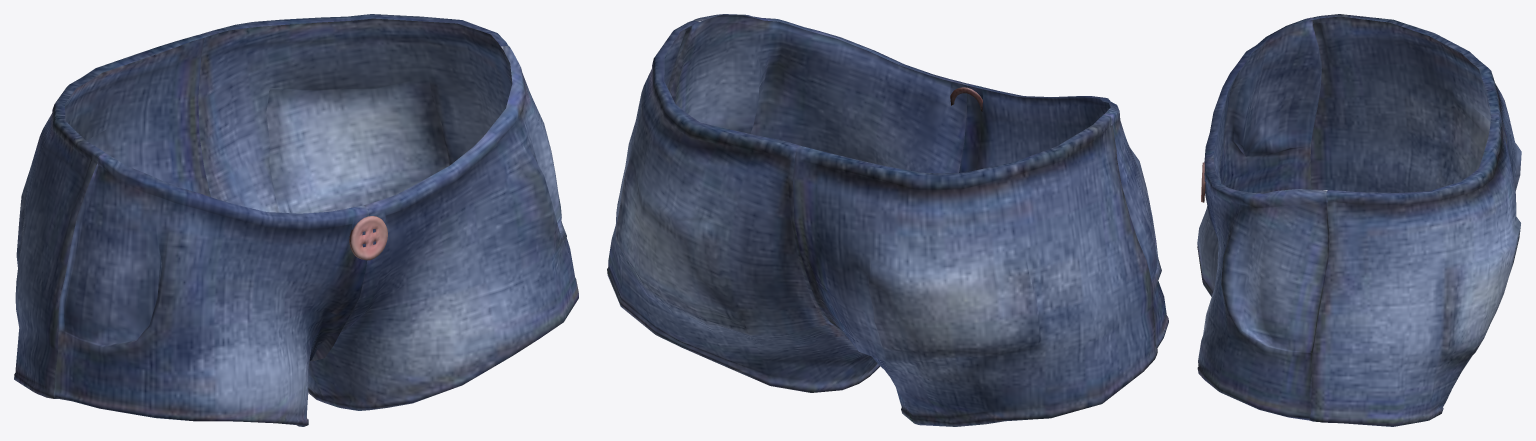
Rendered from shorts.glb.
3 views of the same model, side by side, from view 1: azimuth 30°, elevation 25°; view 2: azimuth 150°, elevation 25°; view 3: azimuth 270°, elevation 25° (orthographic). The views are drawn at different scales.
Visible parts, largest first — view 1: shorts; view 2: shorts; view 3: shorts.
Boxes of the visible parts, x1,y1,x2,y2 form: shorts: (14,14,578,426); shorts: (607,14,1168,426); shorts: (1197,14,1521,426).
Size of the model in its own units: 0.388 by 0.2248 by 0.2382.
Materials: 1 (1 with a texture image).
